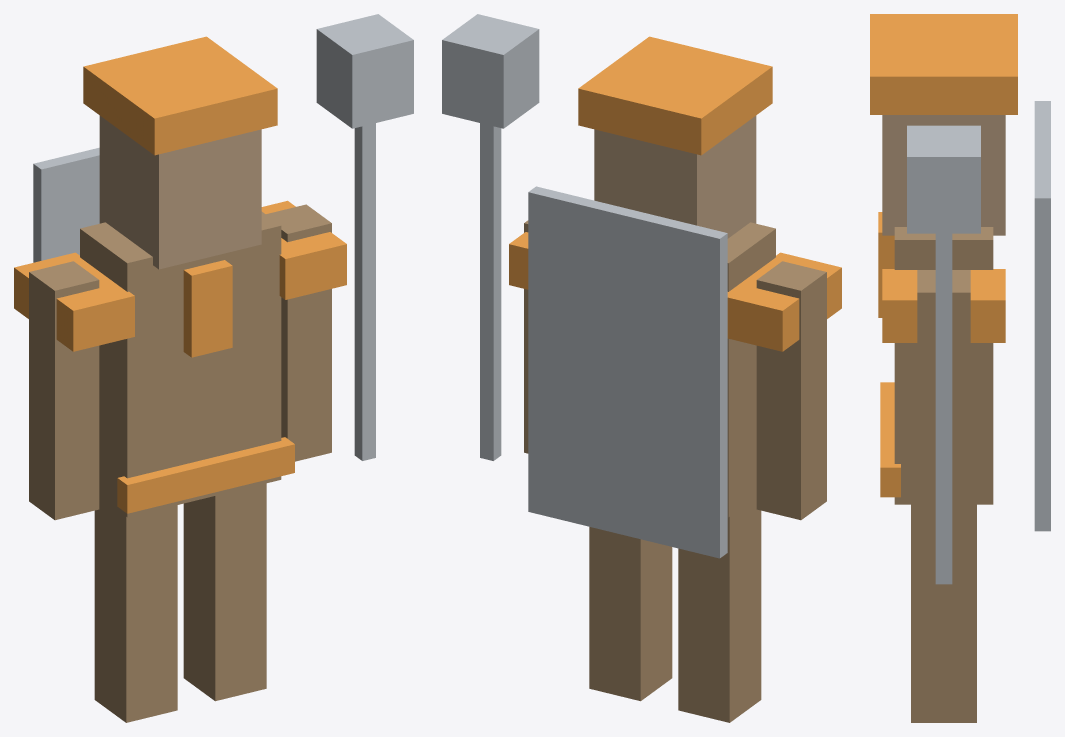
The model's file is 18_edda_runeclasp_oracle_at_harmonic.glb.
3 views of the same model, side by side, from view 1: azimuth 30°, elevation 25°; view 2: azimuth 150°, elevation 25°; view 3: azimuth 270°, elevation 25° (orthographic). The views are drawn at different scales.
Visible parts, largest first — view 1: Edda Runeclasp, Oracle at Harmonic; view 2: Edda Runeclasp, Oracle at Harmonic; view 3: Edda Runeclasp, Oracle at Harmonic.
Part boxes in pixels (<box>): Edda Runeclasp, Oracle at Harmonic: <box>14,14,413,722</box>; Edda Runeclasp, Oracle at Harmonic: <box>442,14,841,722</box>; Edda Runeclasp, Oracle at Harmonic: <box>870,14,1050,722</box>.
Size of the model in its own units: 1.03 by 1.71 by 0.4381.
